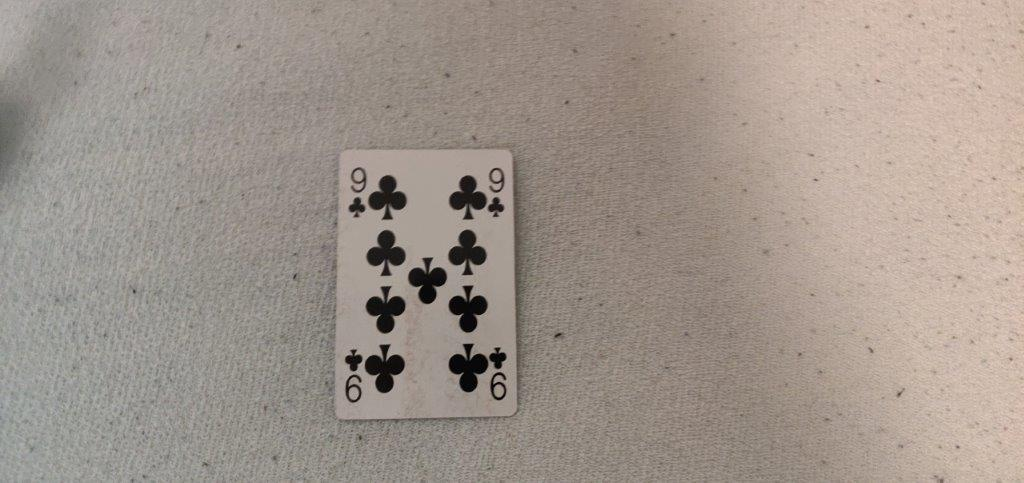9C: (482, 162, 514, 229), (345, 164, 373, 222)
